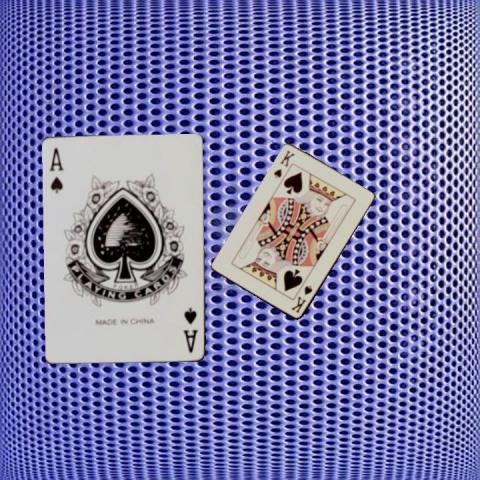As: (181, 304, 199, 354), (48, 145, 66, 195)
Ks: (271, 147, 296, 180), (289, 282, 314, 314)
